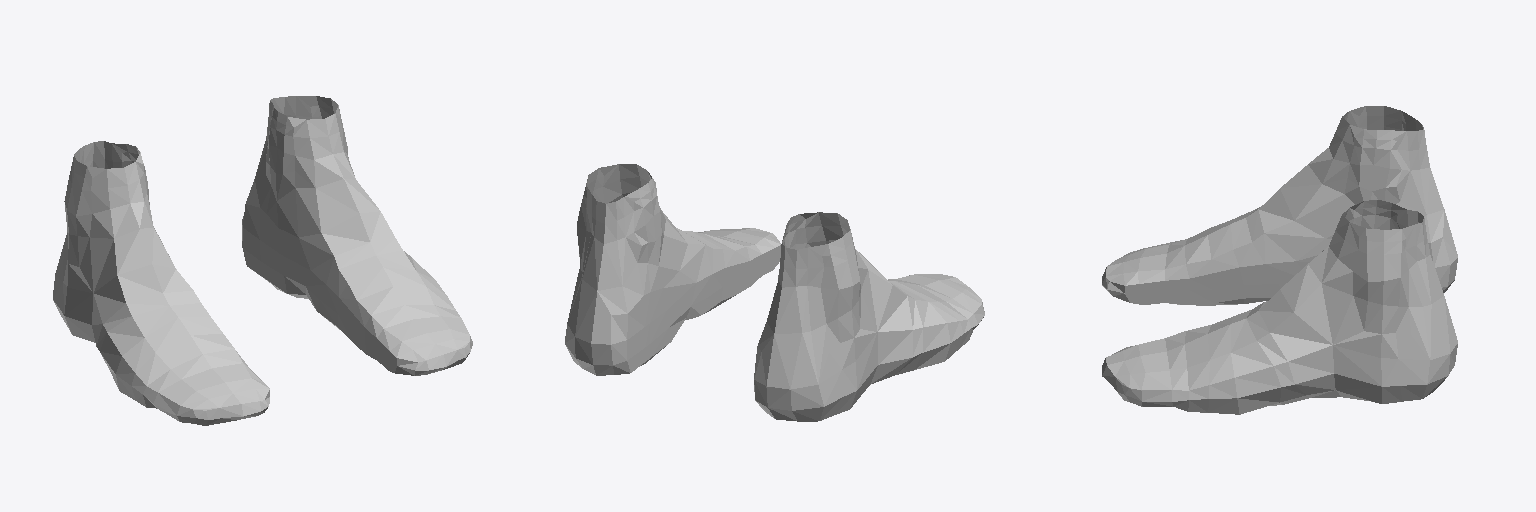
Rendered from foot1.obj.
3 renders of one model, left to right at view 1: azimuth 30°, elevation 25°; view 2: azimuth 150°, elevation 25°; view 3: azimuth 270°, elevation 25°, orthographic.
Parts seen in each view (by area): view 1: polySurface2 girl_OBJ:Mesh; view 2: polySurface2 girl_OBJ:Mesh; view 3: polySurface2 girl_OBJ:Mesh.
Part boxes in pixels (bbox=[...]): polySurface2 girl_OBJ:Mesh: bbox=[53, 96, 472, 425]; polySurface2 girl_OBJ:Mesh: bbox=[565, 164, 984, 421]; polySurface2 girl_OBJ:Mesh: bbox=[1102, 106, 1457, 414].
Size of the model in its own units: 0.1749 by 0.0944 by 0.1672.